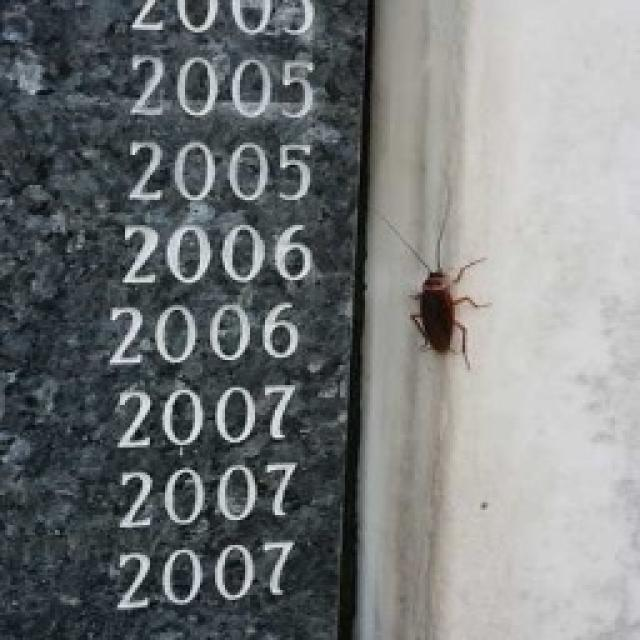cockroach: (377, 182, 495, 372)
